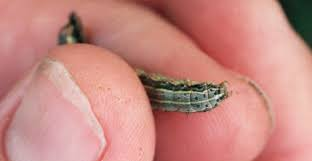Armyworm: (133, 75, 234, 115)
